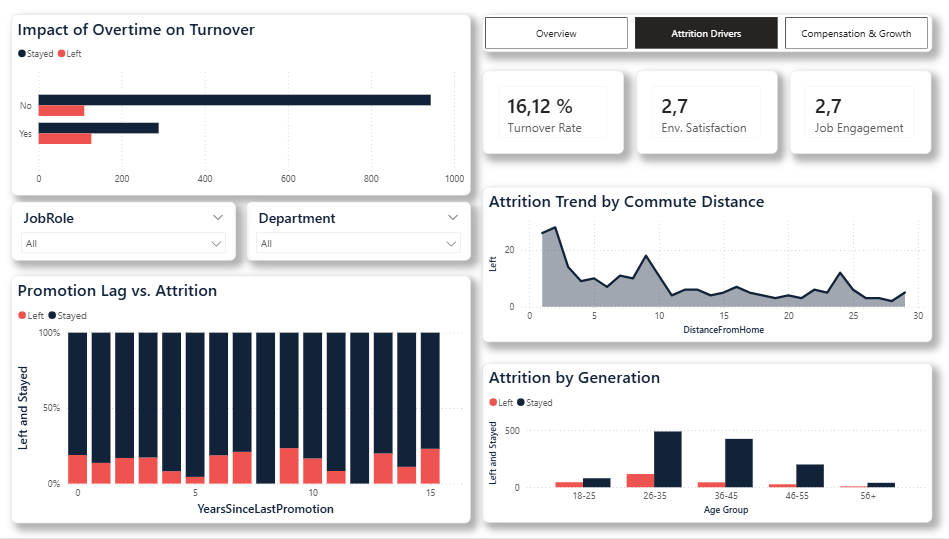

What the dashboard file says about the page in this screenshot:
{"tool":"powerbi","page":{"name":"Attrition Drivers","canvas":[1280,720],"ordinal":1},"visuals":[{"type":"cardVisual","fields":{"Data":["WA_Fn-UseC_-HR-Employee-Attrition.avg envr satis"]},"box":[860,97.1,188.6,111.4],"z":0},{"type":"cardVisual","fields":{"Data":["WA_Fn-UseC_-HR-Employee-Attrition.avg jobinvolvment"]},"box":[1065.7,97.1,188.6,111.4],"z":1000},{"type":"cardVisual","fields":{"Data":["WA_Fn-UseC_-HR-Employee-Attrition.attrition rate"]},"box":[654.3,97.1,188.6,111.4],"z":2000},{"type":"clusteredColumnChart","title":"Attrition by Generation","fields":{"Category":["WA_Fn-UseC_-HR-Employee-Attrition.Age Group"],"Y":["WA_Fn-UseC_-HR-Employee-Attrition.attrition yes","WA_Fn-UseC_-HR-Employee-Attrition.attrition no"]},"box":[654.3,487.1,600,212.9],"z":3000},{"type":"hundredPercentStackedColumnChart","title":"Promotion Lag vs. Attrition","fields":{"Category":["WA_Fn-UseC_-HR-Employee-Attrition.YearsSinceLastPromotion"],"Y":["WA_Fn-UseC_-HR-Employee-Attrition.attrition yes","WA_Fn-UseC_-HR-Employee-Attrition.attrition no"]},"box":[27.1,370,612.9,330],"z":4000},{"type":"stackedAreaChart","title":"Attrition Trend by Commute Distance","fields":{"Y":["WA_Fn-UseC_-HR-Employee-Attrition.attrition yes"],"Category":["WA_Fn-UseC_-HR-Employee-Attrition.DistanceFromHome"]},"box":[654.3,251.4,600,207.1],"z":5000},{"type":"clusteredBarChart","title":"Impact of Overtime on Turnover","fields":{"Y":["WA_Fn-UseC_-HR-Employee-Attrition.attrition no","WA_Fn-UseC_-HR-Employee-Attrition.attrition yes"],"Category":["WA_Fn-UseC_-HR-Employee-Attrition.OverTime"]},"box":[27.1,21.4,612.9,241.4],"z":5001},{"type":"pageNavigator","box":[654.3,21.4,600,50],"z":5002},{"type":"slicer","fields":{"Values":["WA_Fn-UseC_-HR-Employee-Attrition.Department"]},"box":[340,271.4,300,78.6],"z":5003},{"type":"slicer","fields":{"Values":["WA_Fn-UseC_-HR-Employee-Attrition.JobRole"]},"box":[27.1,271.4,300,78.6],"z":5004}]}

Visuals, with their boxes in screenshot pixels (x1, y1, x2, y2), scaled from the page's 1280x720 canvas onto the 949x539 screenshot:
cardVisual - WA_Fn-UseC_-HR-Employee-Attrition.avg envr satis: detection(638, 73, 777, 156)
cardVisual - WA_Fn-UseC_-HR-Employee-Attrition.avg jobinvolvment: detection(790, 73, 930, 156)
cardVisual - WA_Fn-UseC_-HR-Employee-Attrition.attrition rate: detection(485, 73, 625, 156)
"Attrition by Generation" clusteredColumnChart: detection(485, 365, 930, 524)
"Promotion Lag vs. Attrition" hundredPercentStackedColumnChart: detection(20, 277, 474, 524)
"Attrition Trend by Commute Distance" stackedAreaChart: detection(485, 188, 930, 343)
"Impact of Overtime on Turnover" clusteredBarChart: detection(20, 16, 474, 197)
pageNavigator: detection(485, 16, 930, 53)
slicer - WA_Fn-UseC_-HR-Employee-Attrition.Department: detection(252, 203, 474, 262)
slicer - WA_Fn-UseC_-HR-Employee-Attrition.JobRole: detection(20, 203, 243, 262)
